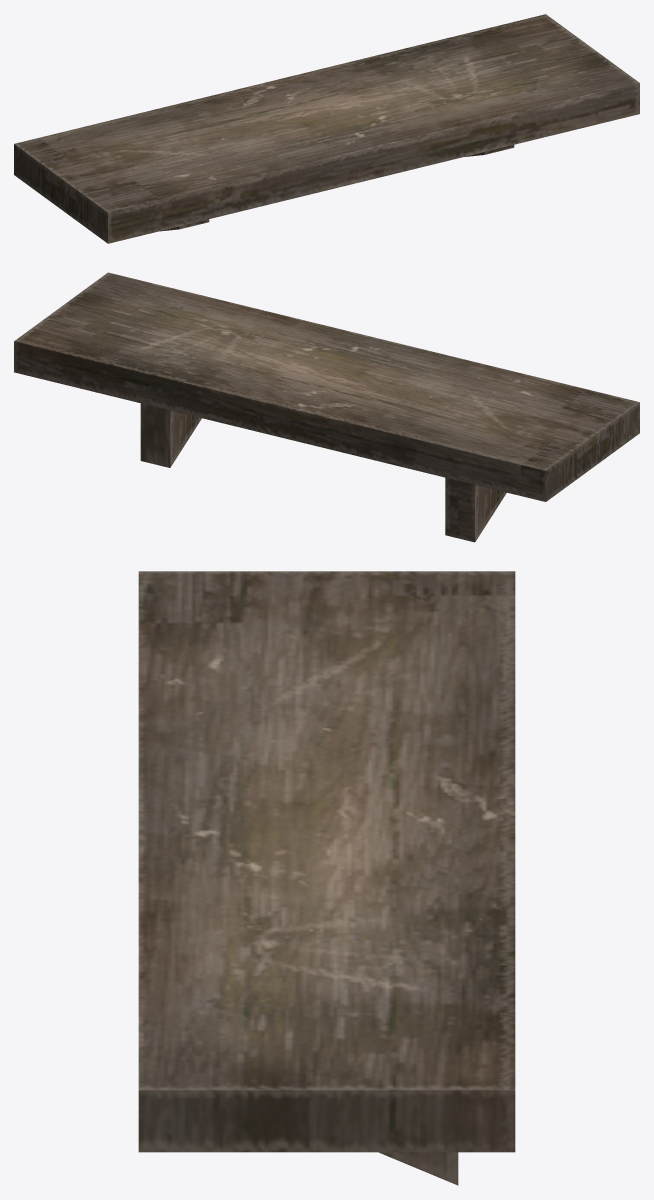
Rendered from Shelf_1.fbx.
The picture shows the model from 3 angles, top to bottom: view 1: azimuth 30°, elevation 25°; view 2: azimuth 150°, elevation 25°; view 3: azimuth 270°, elevation 25°; orthographic projection. The views are drawn at different scales.
Parts seen in each view (by area): view 1: Shelf_1; view 2: Shelf_1; view 3: Shelf_1.
Boxes of the visible parts, bbox=[...] form: Shelf_1: bbox=[14, 14, 639, 243]; Shelf_1: bbox=[14, 272, 639, 542]; Shelf_1: bbox=[138, 571, 515, 1185].
Size of the model in its own units: 69.92 by 12.88 by 21.42.
